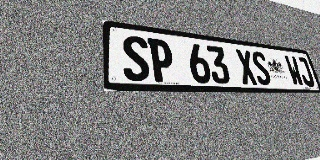3: (206, 45, 231, 84)
6: (186, 43, 213, 83)
J: (295, 57, 316, 87)
P: (147, 38, 176, 82)
S: (121, 35, 151, 82), (250, 51, 273, 85)
W: (284, 55, 305, 86)
X: (235, 49, 258, 85)
